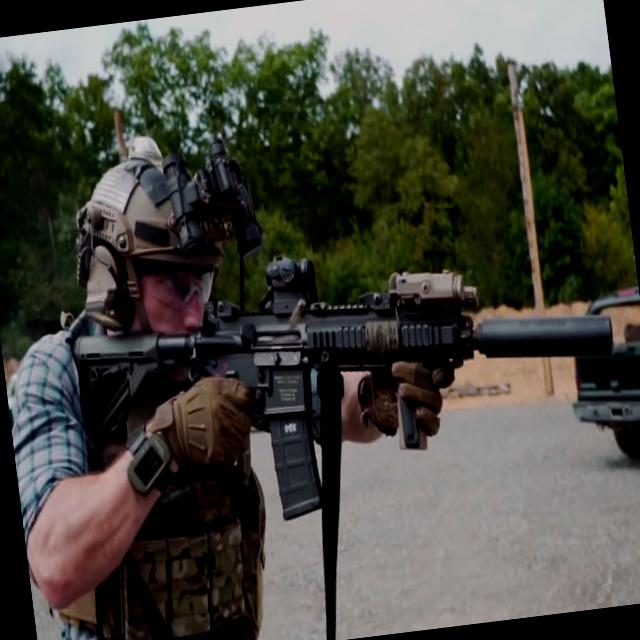long weapon: (209, 208, 625, 502)
